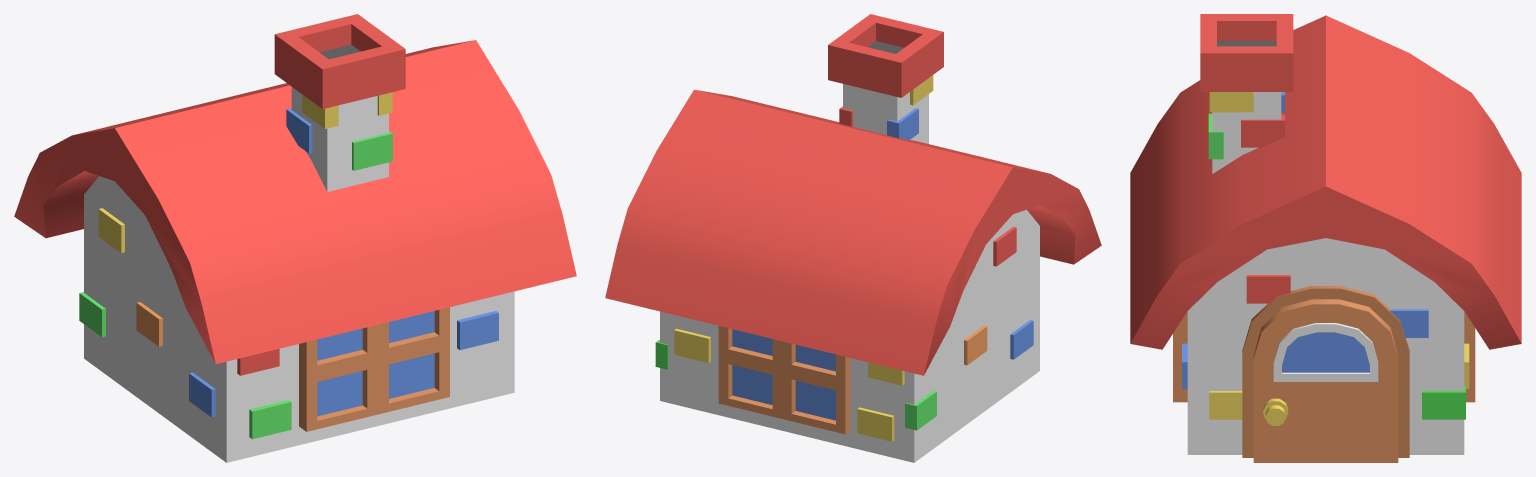
The model's file is House_B.fbx.
The picture shows the model from 3 angles, left to right: view 1: azimuth 30°, elevation 25°; view 2: azimuth 150°, elevation 25°; view 3: azimuth 270°, elevation 25°; orthographic projection. The views are drawn at different scales.
Visible parts, largest first — view 1: House_B; view 2: House_B; view 3: House_B.
Boxes of the visible parts, x1,y1,x2,y2 form: House_B: (14,14,576,462); House_B: (605,14,1101,462); House_B: (1130,14,1521,462).
Size of the model in its own units: 367 by 354 by 355.
